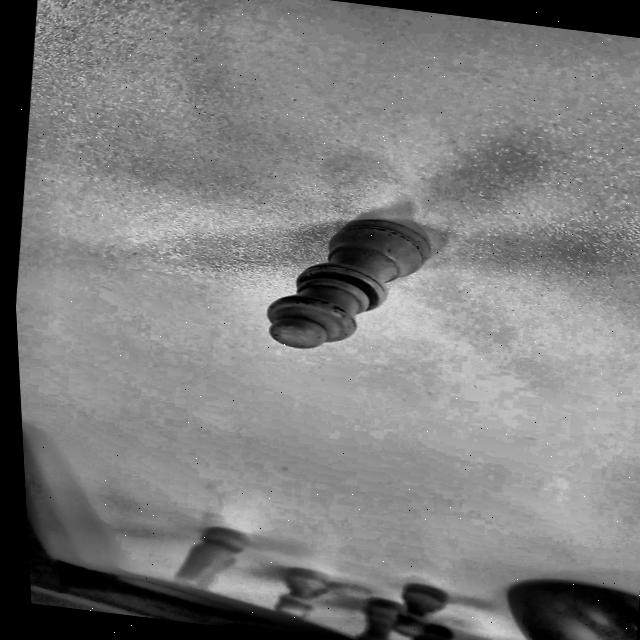white-queen: (229, 165, 498, 383)
